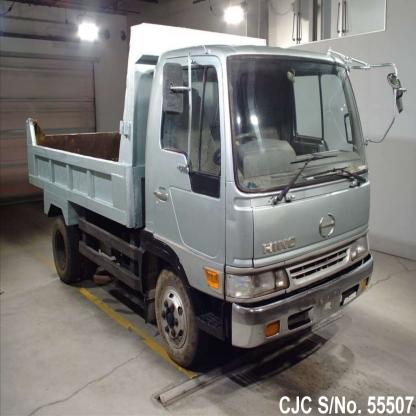dump_truck: (22, 18, 388, 381)
